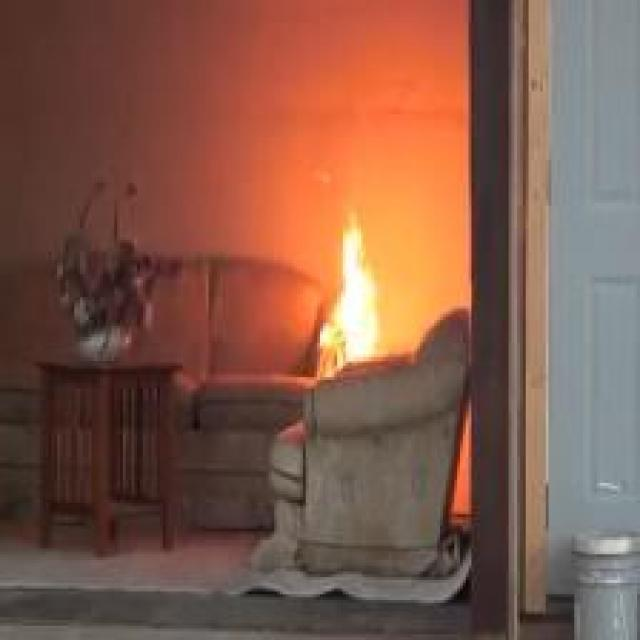Fire: (320, 212, 380, 362)
